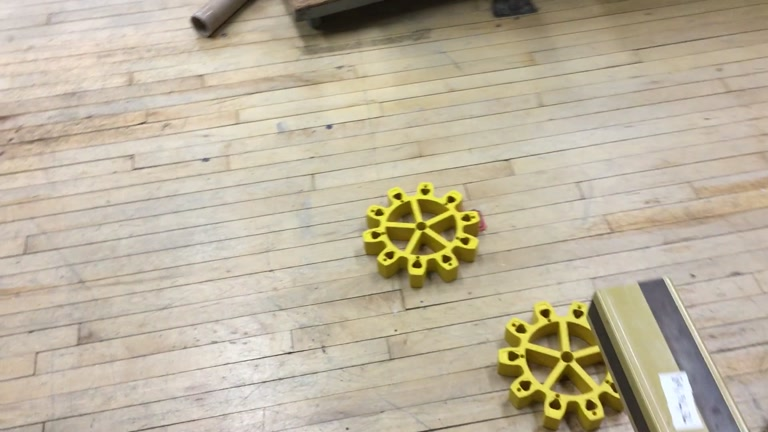gear: (495, 301, 641, 431), (361, 181, 483, 290)
